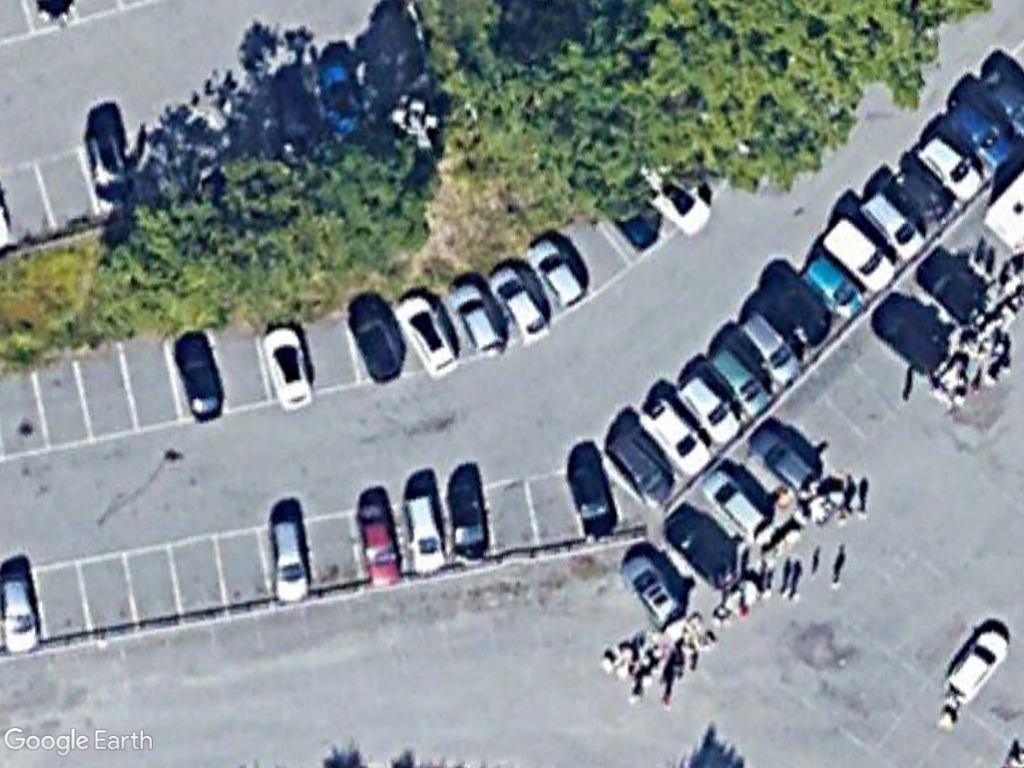car: (636, 391, 717, 482), (388, 289, 463, 382), (750, 422, 828, 510), (698, 462, 777, 548), (668, 368, 747, 451), (258, 323, 324, 421), (169, 323, 230, 429), (608, 422, 682, 508), (701, 338, 777, 419), (616, 545, 688, 630), (565, 454, 626, 553), (916, 127, 988, 210), (734, 300, 803, 386), (940, 623, 1009, 706), (487, 260, 553, 346), (860, 183, 929, 265), (351, 492, 405, 590), (804, 246, 870, 323), (266, 510, 316, 610), (447, 277, 506, 361), (440, 472, 491, 568), (400, 485, 451, 578), (524, 234, 586, 310), (0, 568, 38, 656)
van: (820, 210, 899, 298)
